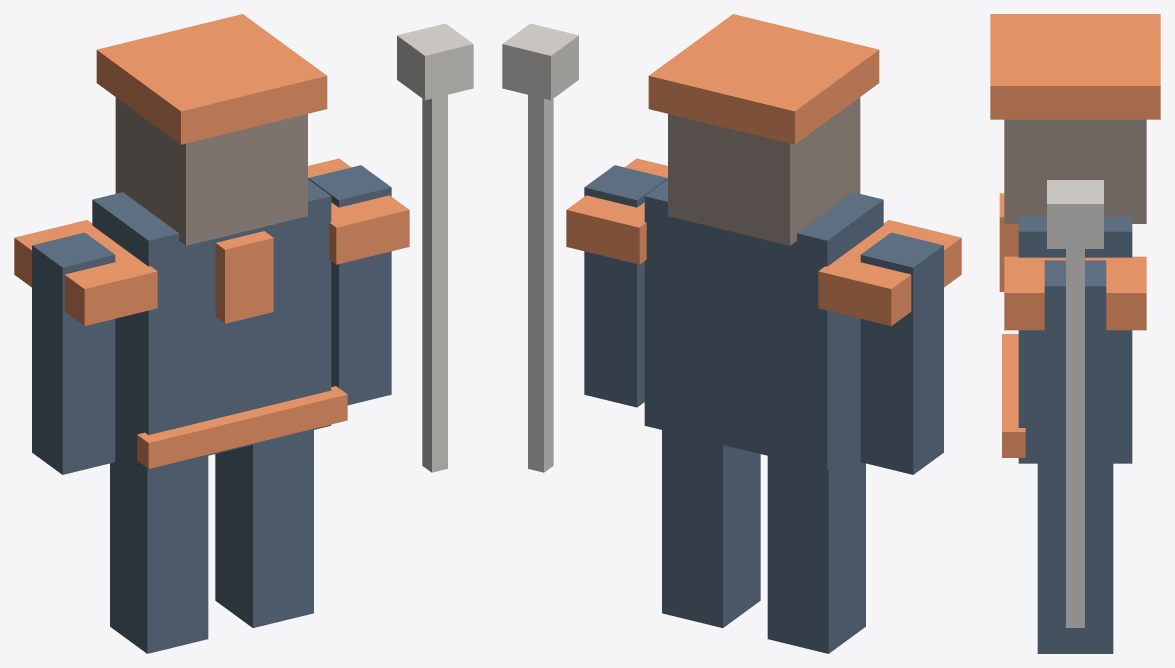
File: 19_ilyra_trenchmark_smith_under_upper.glb
3 renders of one model, left to right at view 1: azimuth 30°, elevation 25°; view 2: azimuth 150°, elevation 25°; view 3: azimuth 270°, elevation 25°, orthographic.
Parts seen in each view (by area): view 1: Ilyra Trenchmark, Smith under Upper; view 2: Ilyra Trenchmark, Smith under Upper; view 3: Ilyra Trenchmark, Smith under Upper.
Part boxes in pixels (x1=…): Ilyra Trenchmark, Smith under Upper: x1=14, y1=14, x2=473, y2=653; Ilyra Trenchmark, Smith under Upper: x1=502, y1=14, x2=961, y2=653; Ilyra Trenchmark, Smith under Upper: x1=990, y1=14, x2=1160, y2=653.
Bounding box in the file's own units: 1.08 × 1.4 × 0.3843.
